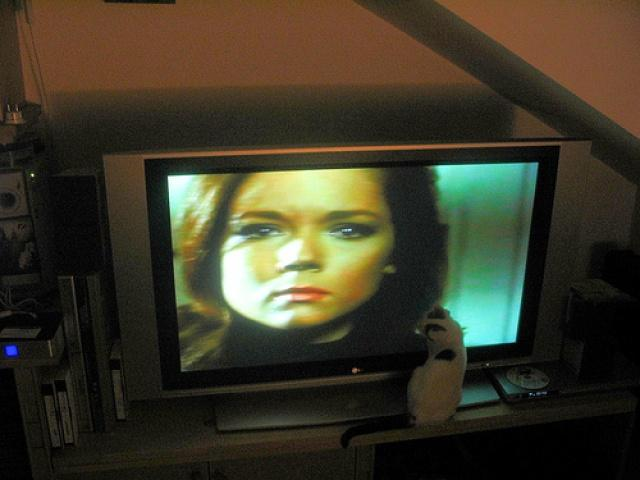AIO PC-Monitor-TV: (100, 137, 593, 401)
